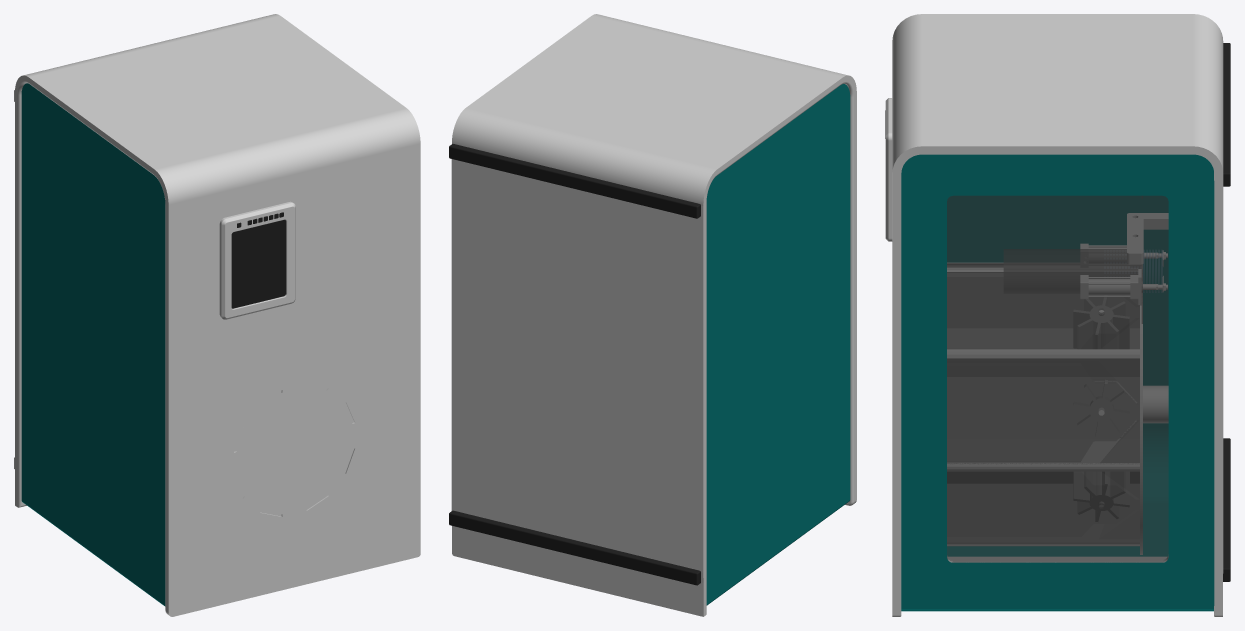
3 views of the same model, side by side, from view 1: azimuth 30°, elevation 25°; view 2: azimuth 150°, elevation 25°; view 3: azimuth 270°, elevation 25° (orthographic). The views are drawn at different scales.
Parts seen in each view (by area): view 1: Ф (×2), ÍëµÄ³öt, ƽ; view 2: Ф; view 3: Ф, ²£, ą¨, ºїѨʈҶ°꓄_9, ºїѨʈҶ°ꨯnRefs, ºїѨʈҶ°, ת, Ϋµ², ÍëµÄ³ö1, ÍëµÄ³öt.
Part boxes in pixels (x1,y1,x2,y2): Ф (×2): [14, 14, 420, 616]; ÍëµÄ³öt: [219, 201, 295, 319]; ƽ: [335, 169, 374, 218]; Ф: [449, 14, 856, 616]; Ф: [892, 14, 1230, 616]; ²£: [947, 195, 1168, 562]; ą¨: [901, 154, 1214, 604]; ºїѨʈҶ°꓄_9: [947, 359, 1139, 462]; ºїѨʈҶ°ꨯnRefs: [947, 472, 1139, 541]; ºїѨʈҶ°: [947, 272, 1139, 348]; ת: [947, 263, 1168, 554]; Ϋµ²: [1004, 249, 1142, 323]; ÍëµÄ³ö1: [1080, 275, 1142, 298]; ÍëµÄ³öt: [885, 98, 892, 241].
Bounding box in the file's own units: 1.04 × 1.73 × 1.15.
